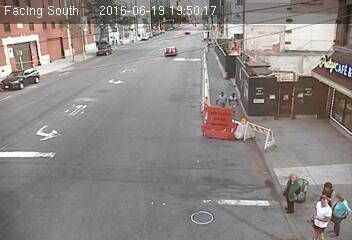neg: (77, 42, 90, 59), (65, 46, 78, 63), (202, 37, 214, 54), (32, 51, 44, 66)
pos: (275, 171, 309, 217), (308, 193, 342, 238), (322, 190, 351, 237), (225, 90, 241, 111), (319, 179, 334, 199), (216, 88, 230, 107)
